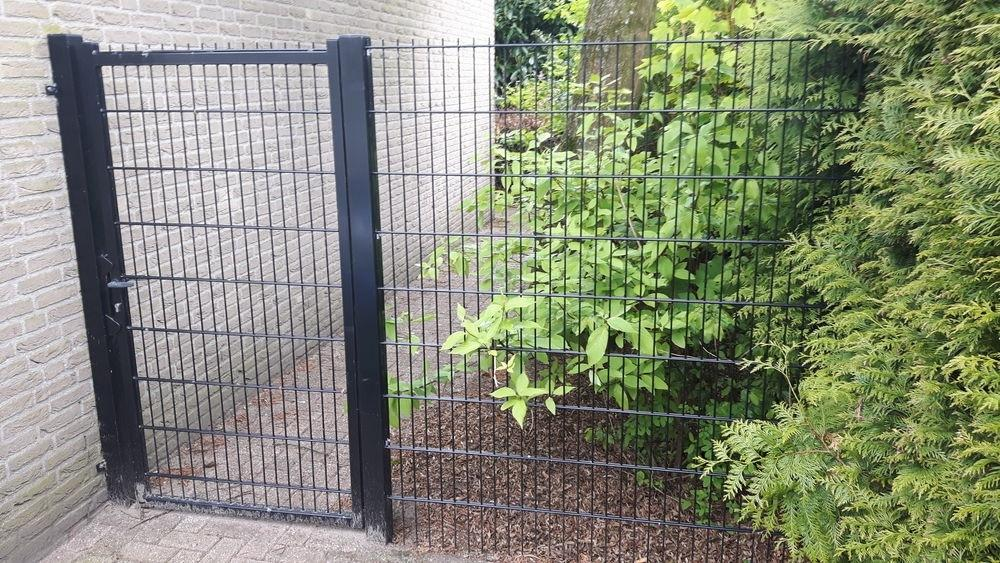obstacle: (0, 2, 754, 562)
